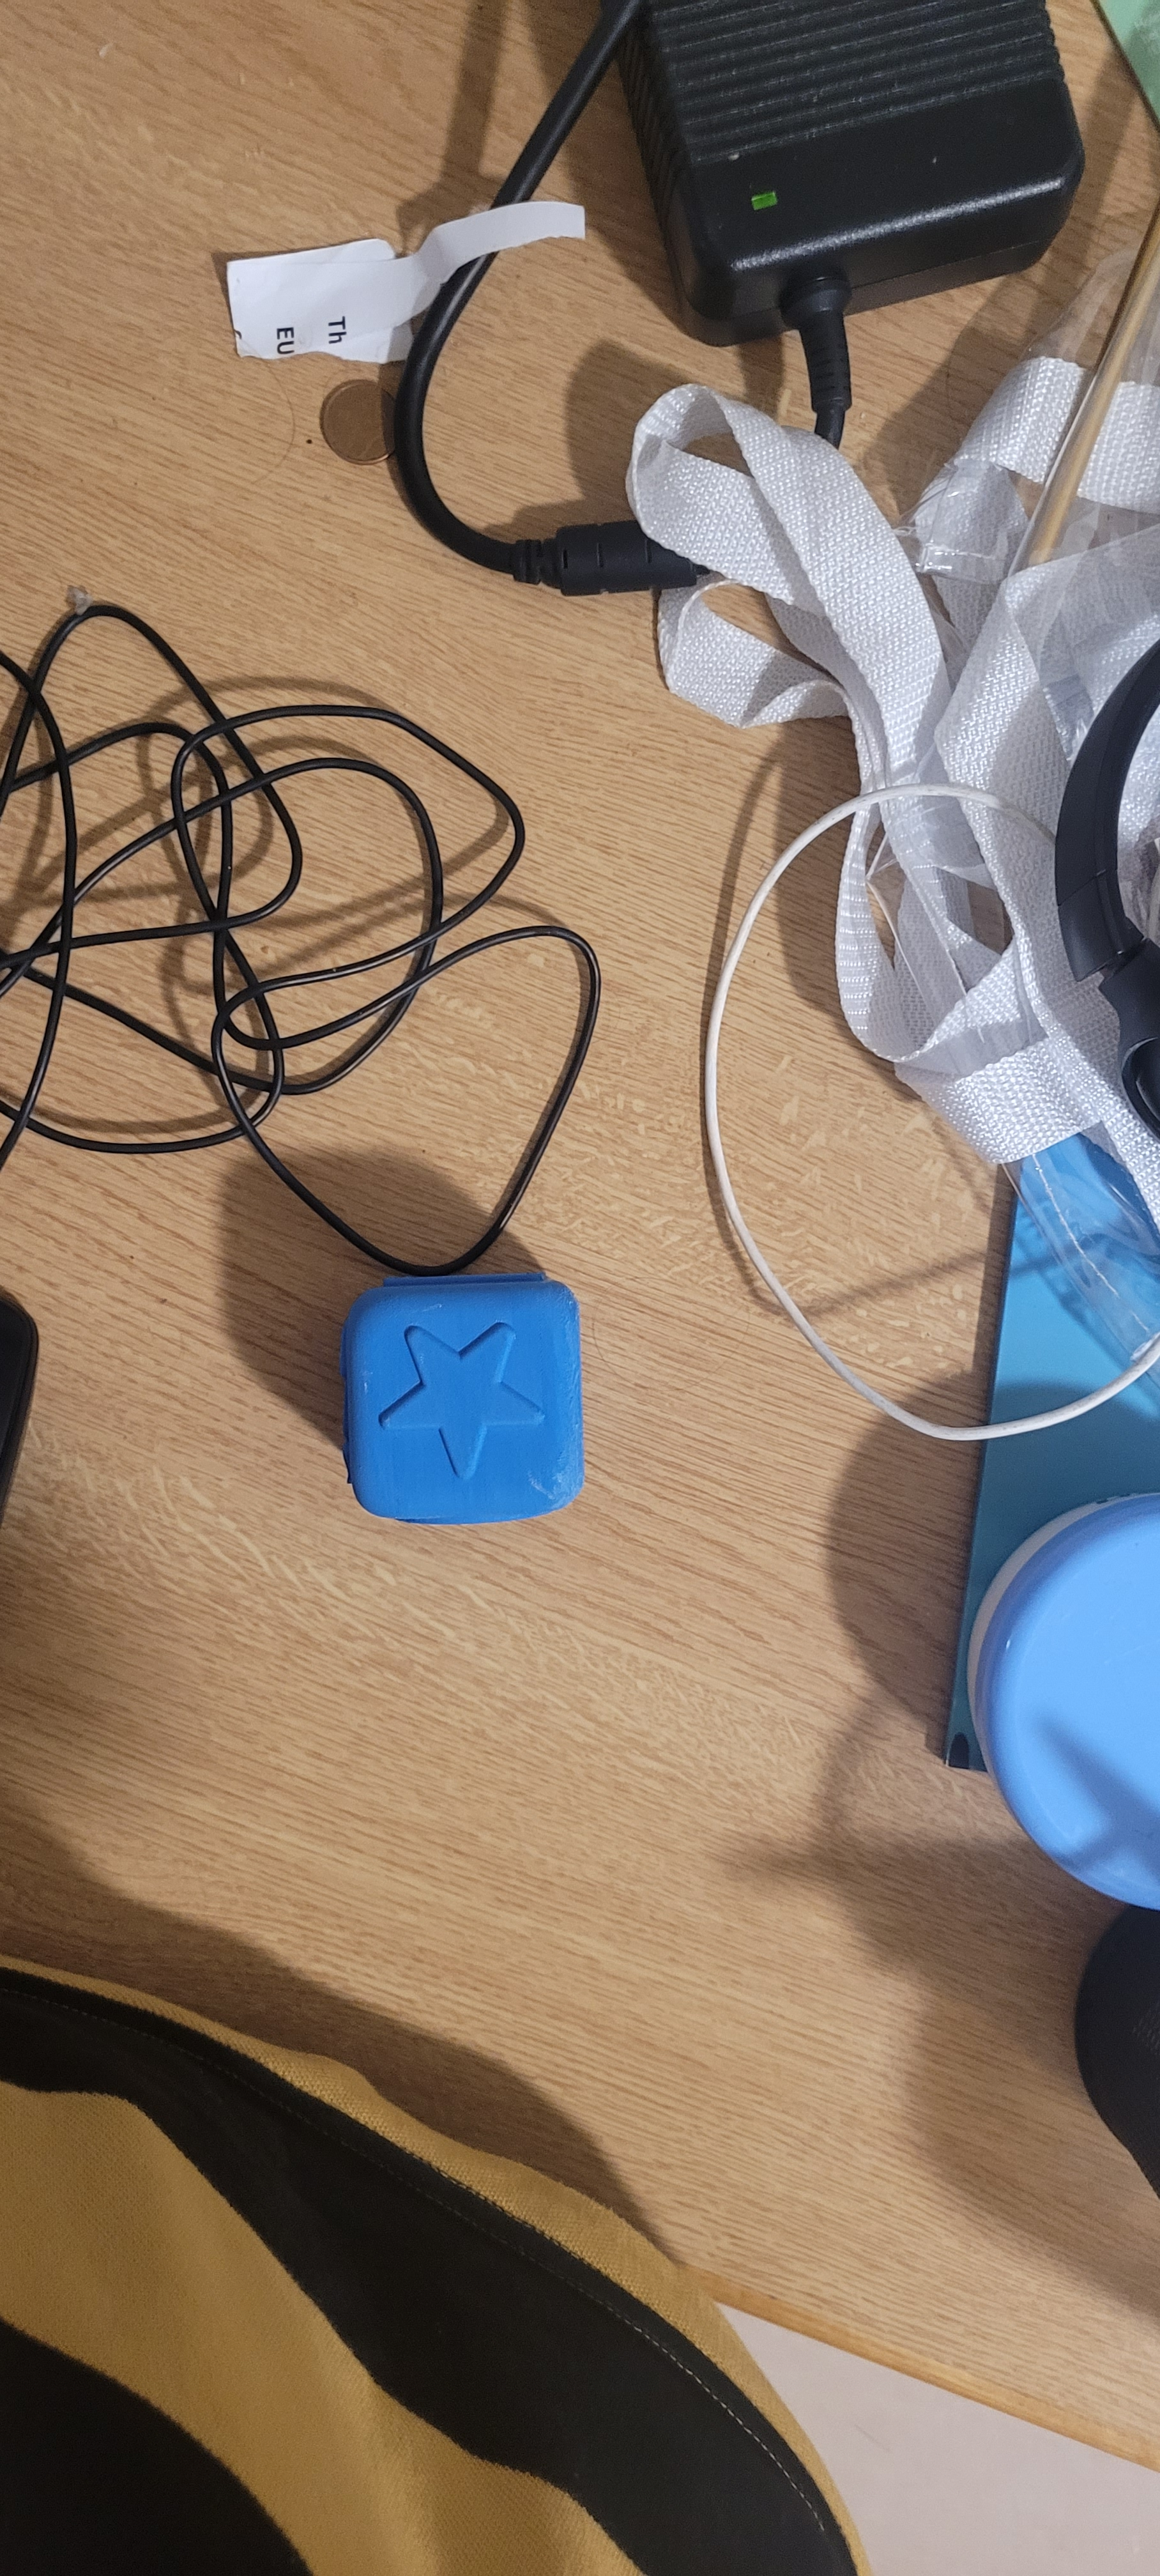Star: (360, 1324, 578, 1457)
